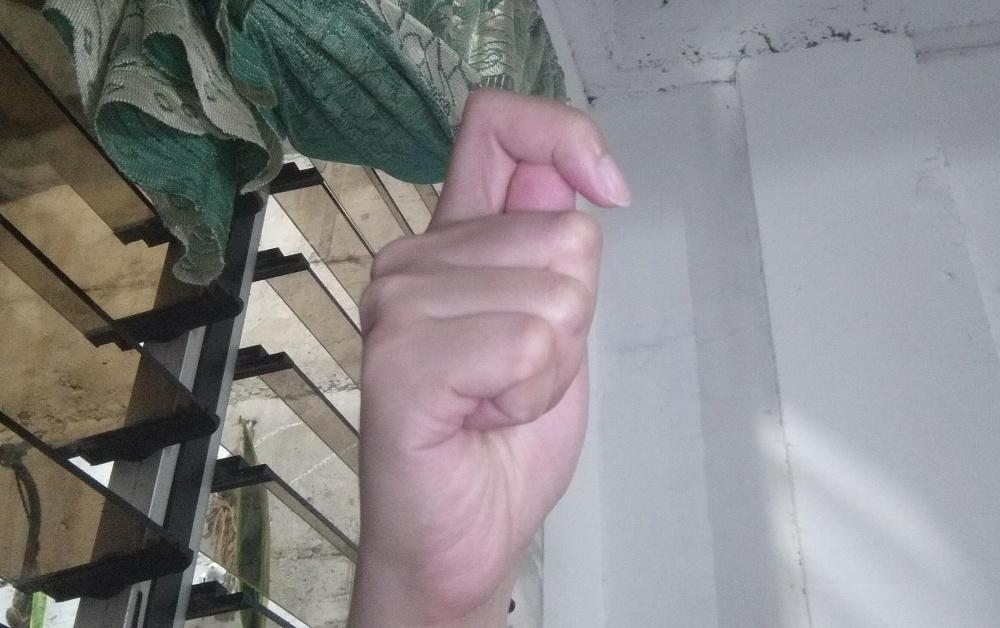t: (354, 83, 633, 593)
